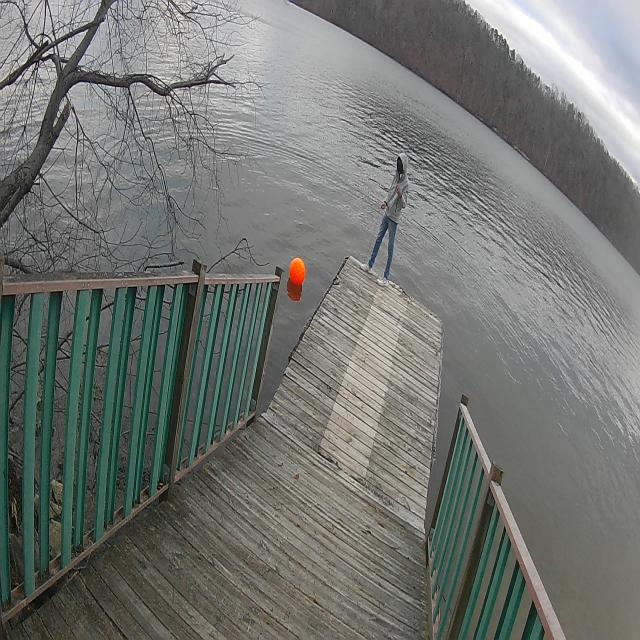Buoy: (287, 249, 308, 292)
